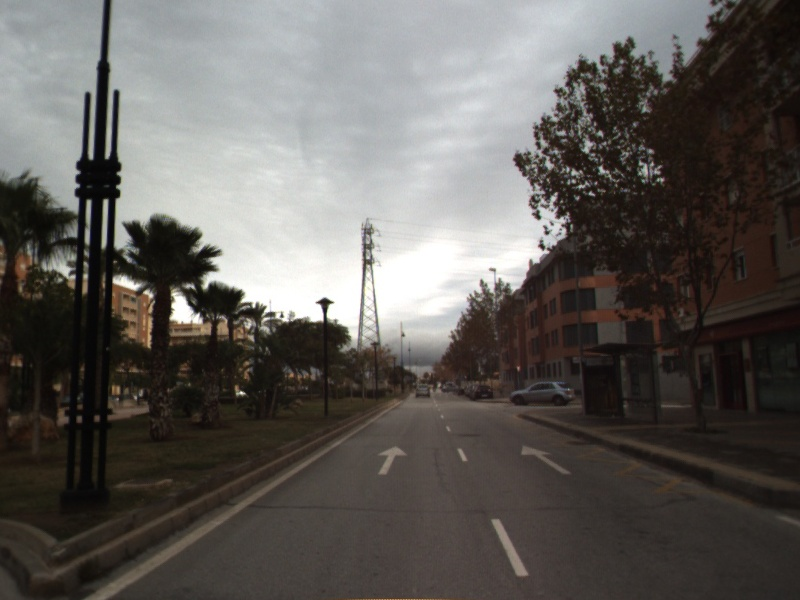STRAIGHT: (519, 443, 574, 476), (375, 444, 410, 477)
